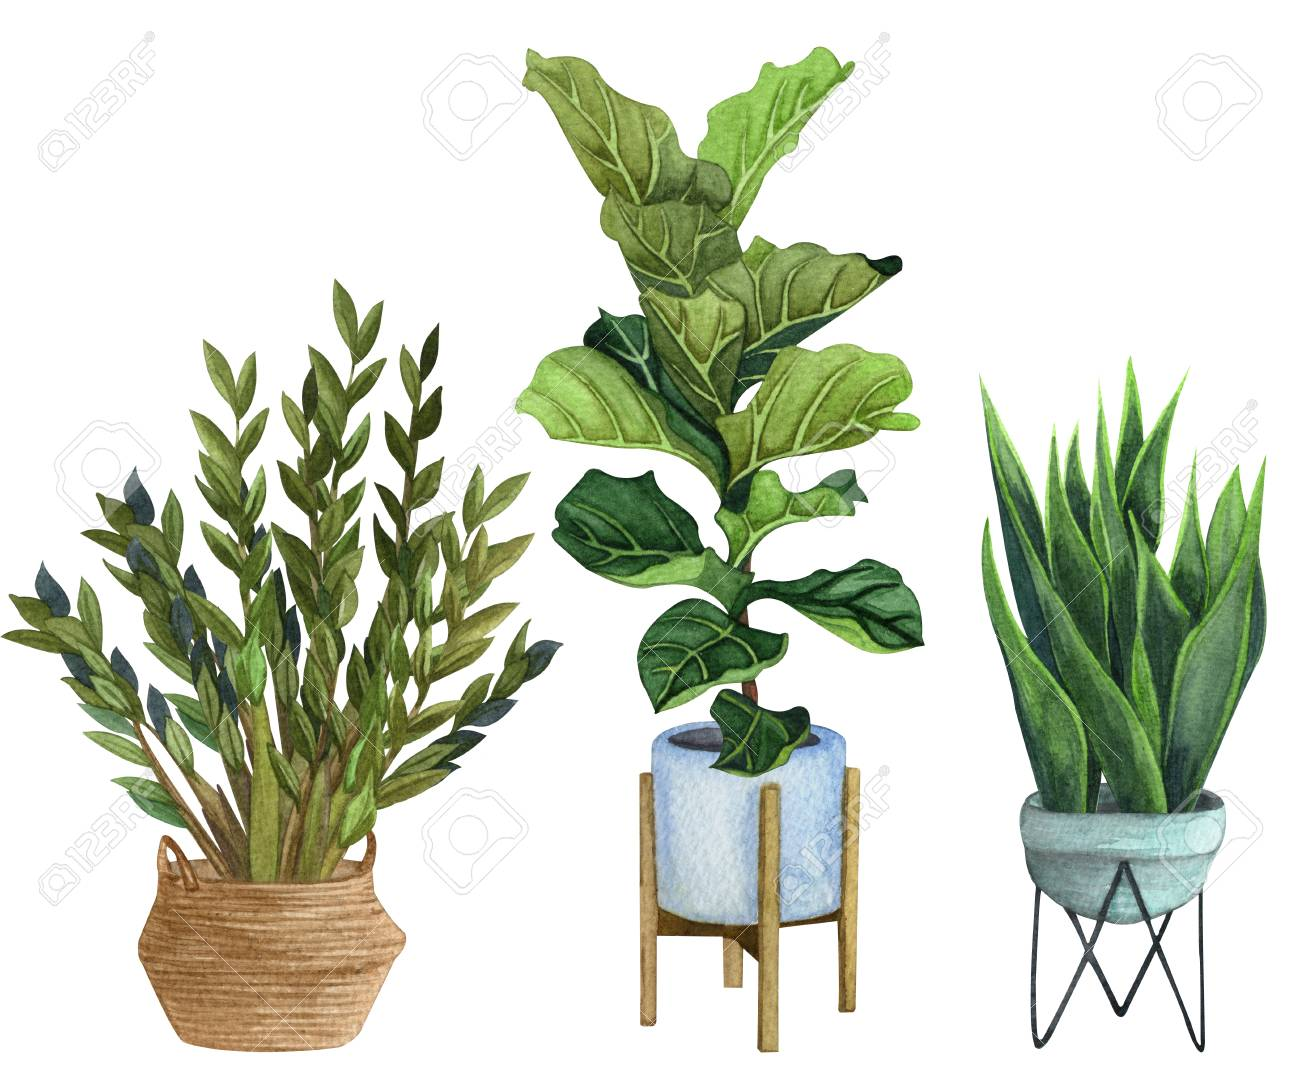plant: (13, 272, 561, 895), (527, 43, 946, 790), (970, 349, 1295, 884)
